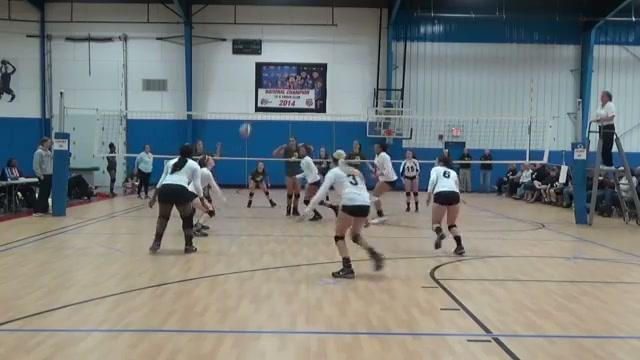ball: (238, 122, 254, 138)
